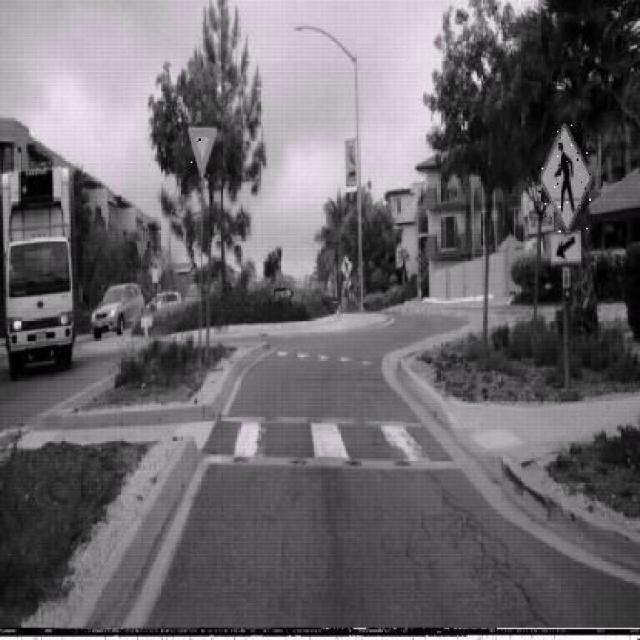pedestrianCrossing: (538, 120, 594, 234), (339, 254, 353, 278)
yield: (188, 126, 217, 179)
